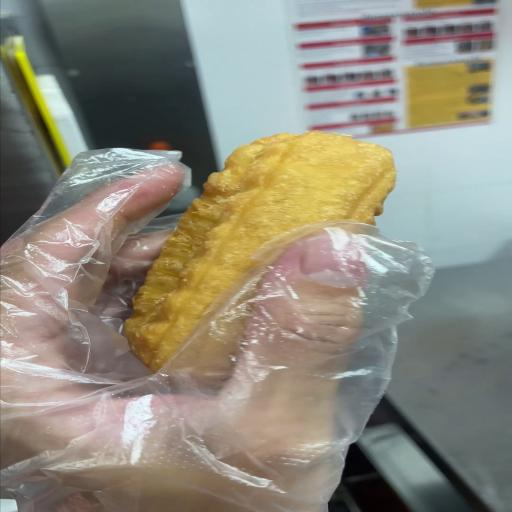brand_golden_good: (126, 131, 395, 371)
